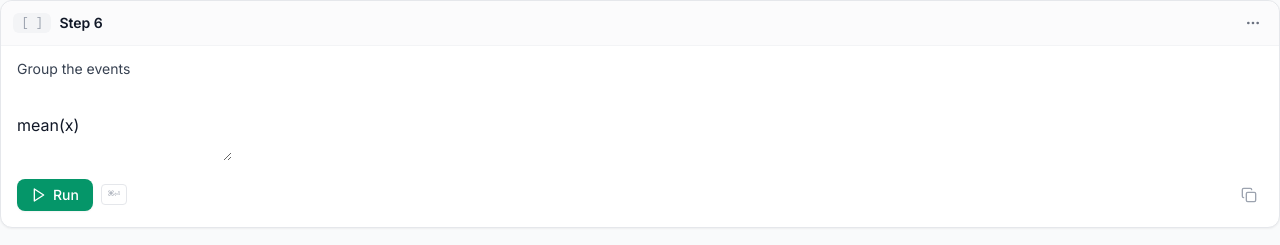
NotebookCell overflow menu › gives a student a scratch copy and a reset, never lock or delete
Click the button named "Cell actions".
click(1253, 23)  # box [1239,9,1267,37]
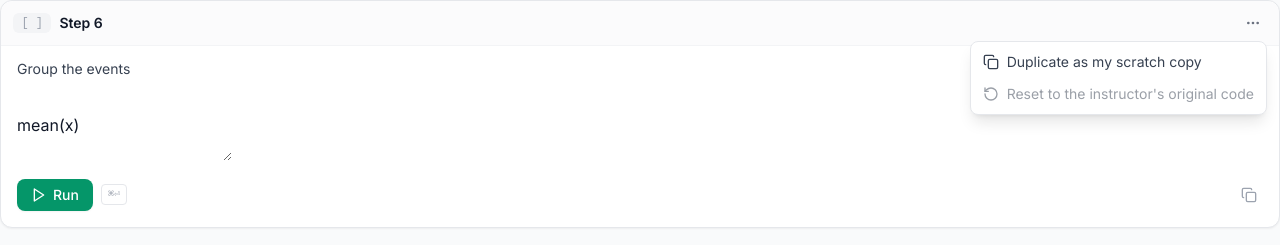
Check: the text "Duplicate as my scratch copy" is shown, box [1007,52,1202,72]
